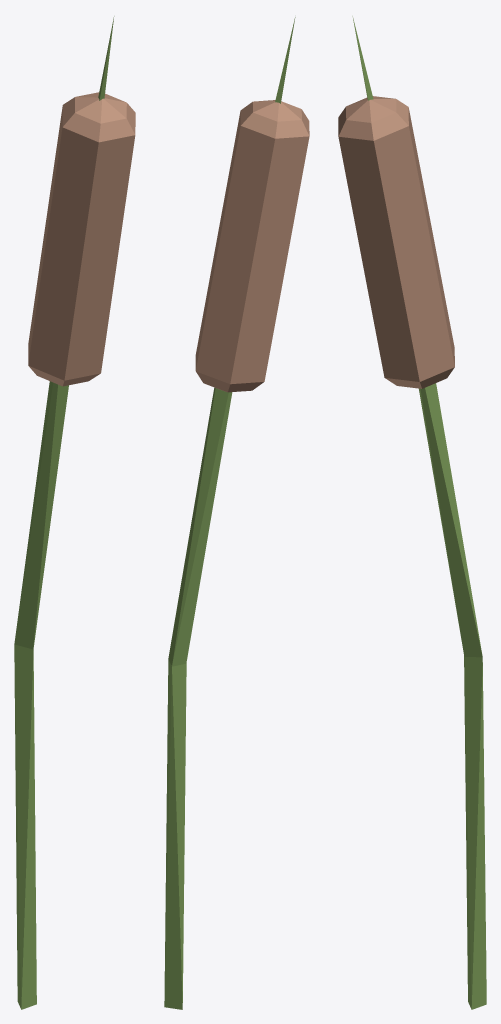
The model's file is Prop_Cattail_1.glb.
3 renders of one model, left to right at view 1: azimuth 90°, elevation 25°; view 2: azimuth 150°, elevation 25°; view 3: azimuth 330°, elevation 25°, orthographic. The views are drawn at different scales.
Visible parts, largest first — view 1: Prop_Cattail_1_Merged; view 2: Prop_Cattail_1_Merged; view 3: Prop_Cattail_1_Merged.
Part boxes in pixels (left/top/right/bottom): Prop_Cattail_1_Merged: left=14, top=16, right=135, bottom=1009; Prop_Cattail_1_Merged: left=164, top=17, right=309, bottom=1009; Prop_Cattail_1_Merged: left=338, top=16, right=486, bottom=1009.
Bounding box in the file's own units: 0.0816 × 0.7053 × 0.0752.
